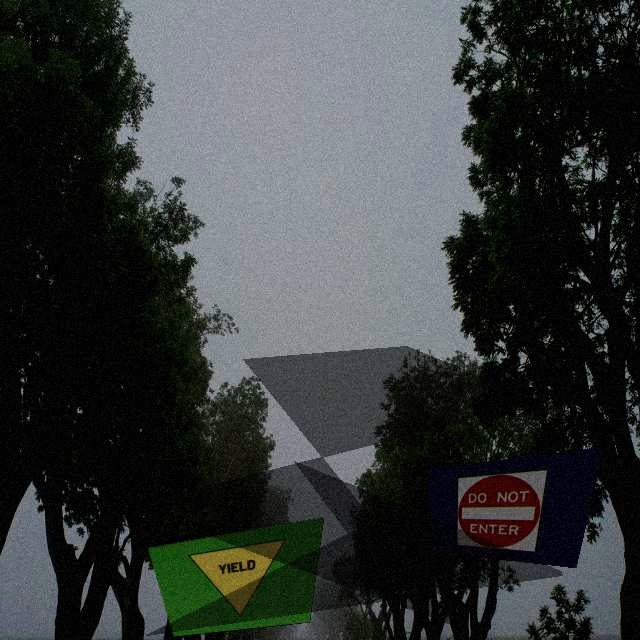DO_NOT_ENTER: (453, 462, 548, 553)
YIELD: (187, 526, 299, 636)
